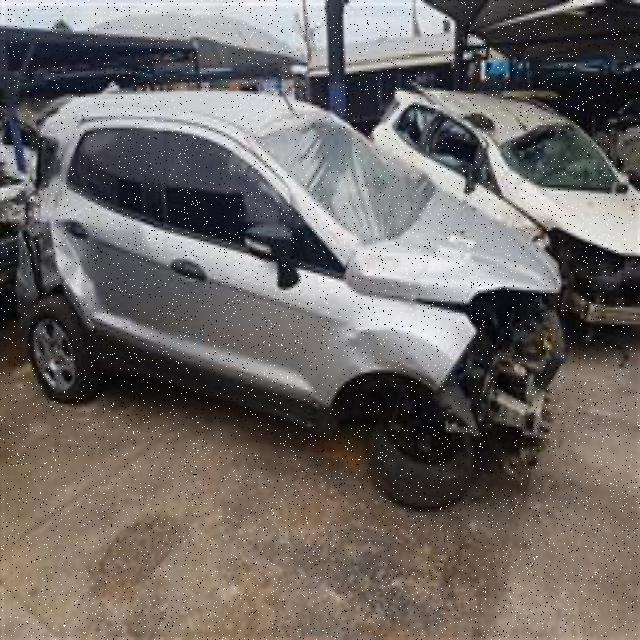Front-Windscreen-Damage: (510, 117, 630, 194)
bonnet-dent: (386, 194, 559, 305)
fender-dent: (316, 301, 472, 404)
quaterpanel-dent: (15, 179, 72, 307)
